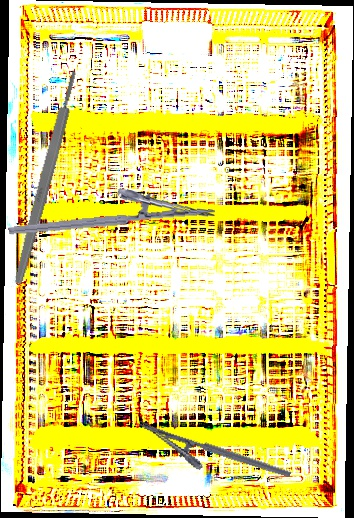Needle Holder: (131, 418, 292, 500), (5, 180, 216, 236)
Scalpel Handle: (11, 69, 82, 286)
